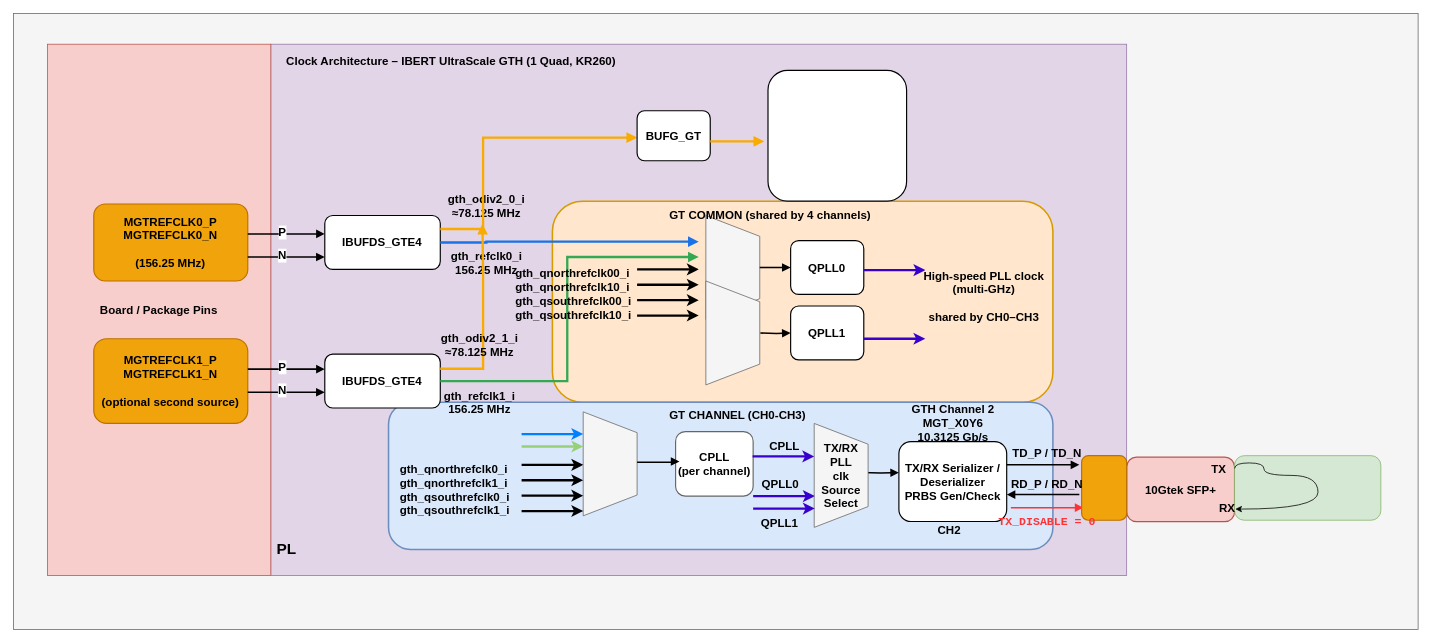
Image size: 1432x643. Some labels were removed from this diagram. Each missing label, with the centre of its shape:
"Buacoz optical loopback" belongs at [1307,487].
"CPLL Refclk Mux" belongs at [609,463].
"IBERT control logic JTAG DRP PRBS control Loopback control Status" belongs at [837,135].
"J23" belongs at [1104,487].
"QPLL0 Refclk Mux" belongs at [732,267].
"QPLL1 Refclk Mux" belongs at [732,332].
